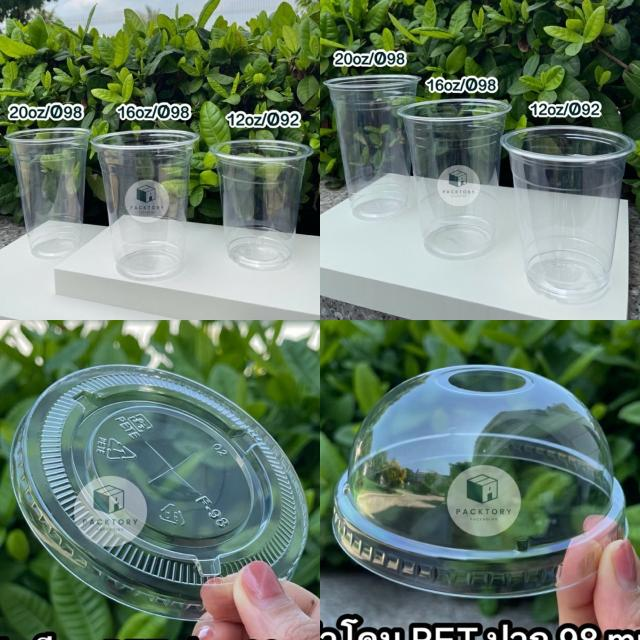Single-Use-Plastic: (10, 365, 308, 619), (334, 365, 624, 597), (501, 125, 635, 301), (399, 99, 511, 258), (91, 130, 199, 280), (325, 75, 420, 219), (210, 140, 312, 270), (6, 129, 90, 258)
